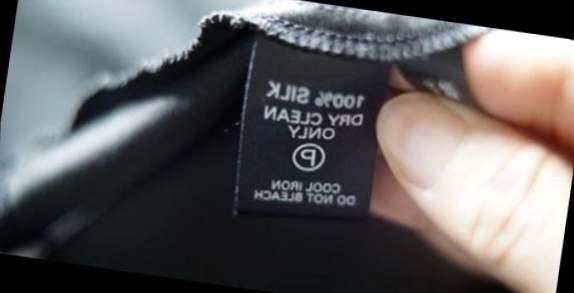dry_clean_any_solvent_except_trichloroethylene: (289, 139, 327, 173)
